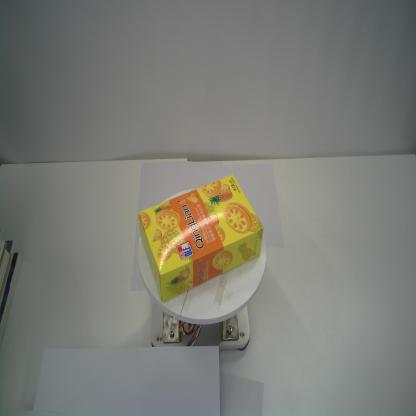Dessert: (138, 174, 264, 303)
